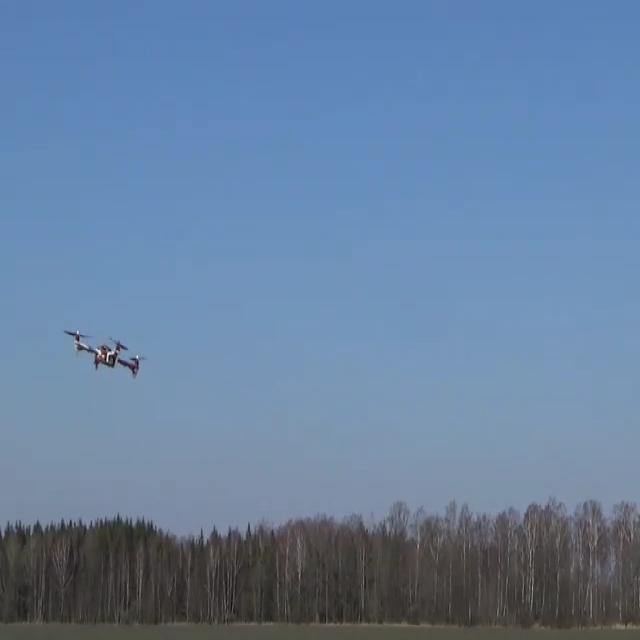Drone: (65, 320, 156, 386)
